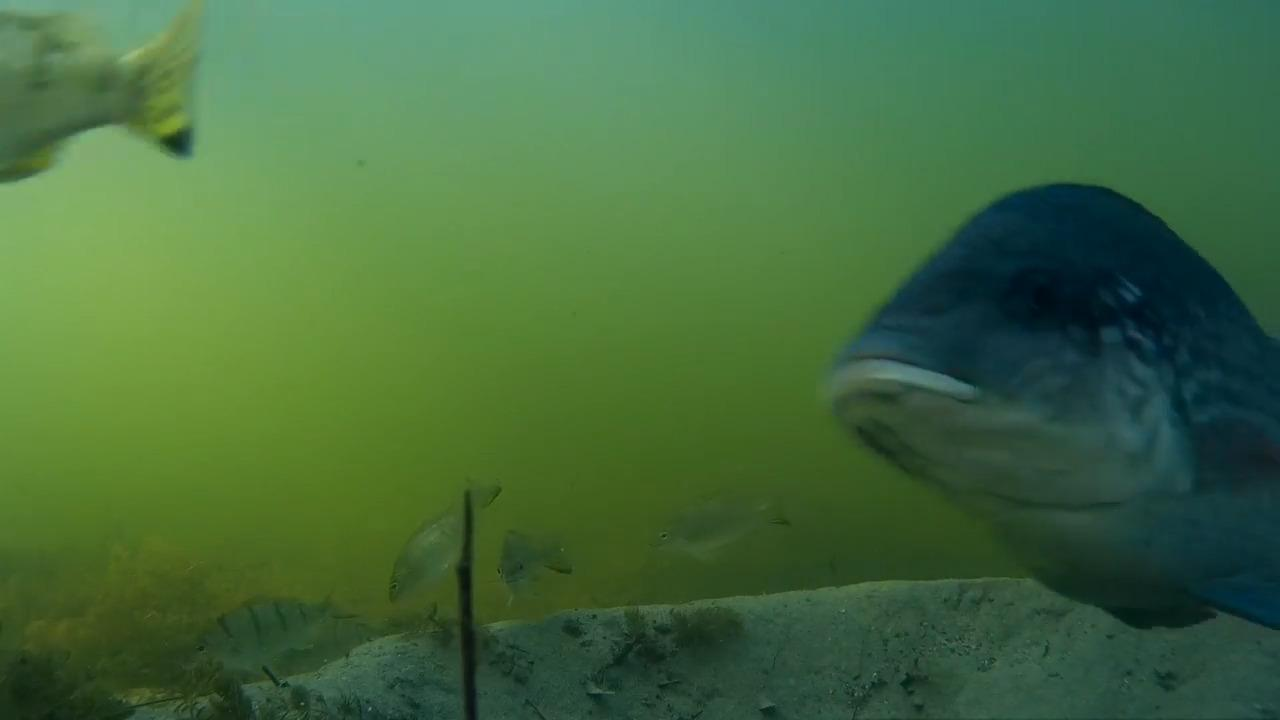Tilapia: (817, 163, 1280, 570), (0, 0, 205, 198), (373, 464, 488, 614), (180, 588, 343, 680), (642, 488, 800, 559)
